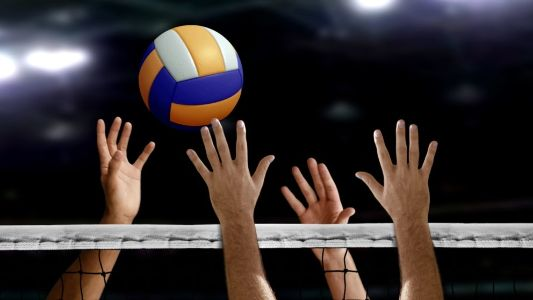voleibol: (138, 25, 244, 131)
